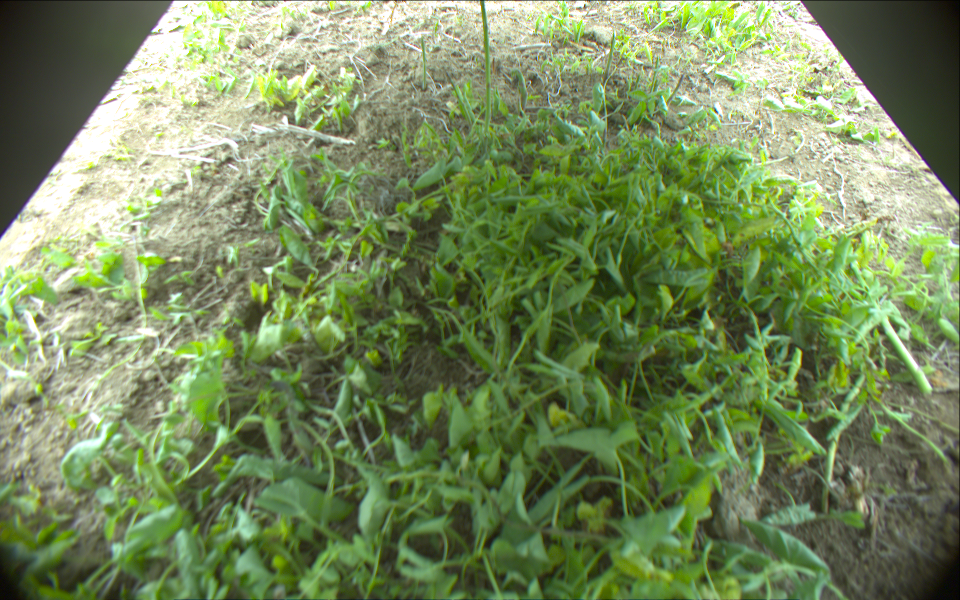aspa: (871, 301, 933, 398), (443, 68, 473, 127), (479, 1, 491, 135), (599, 32, 617, 92), (666, 75, 684, 108), (418, 35, 428, 91), (650, 58, 660, 95)
